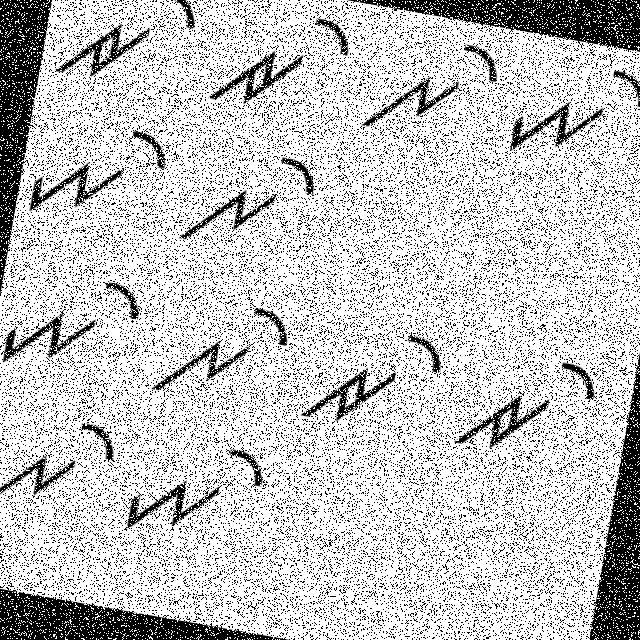lay: (145, 280, 296, 426), (355, 18, 506, 163), (178, 134, 324, 270), (0, 398, 127, 545)
ray: (452, 338, 609, 474), (294, 306, 447, 444), (202, 0, 355, 130), (51, 0, 204, 105)
yay: (116, 418, 278, 560), (23, 104, 178, 242), (0, 257, 149, 392), (505, 43, 639, 178)
